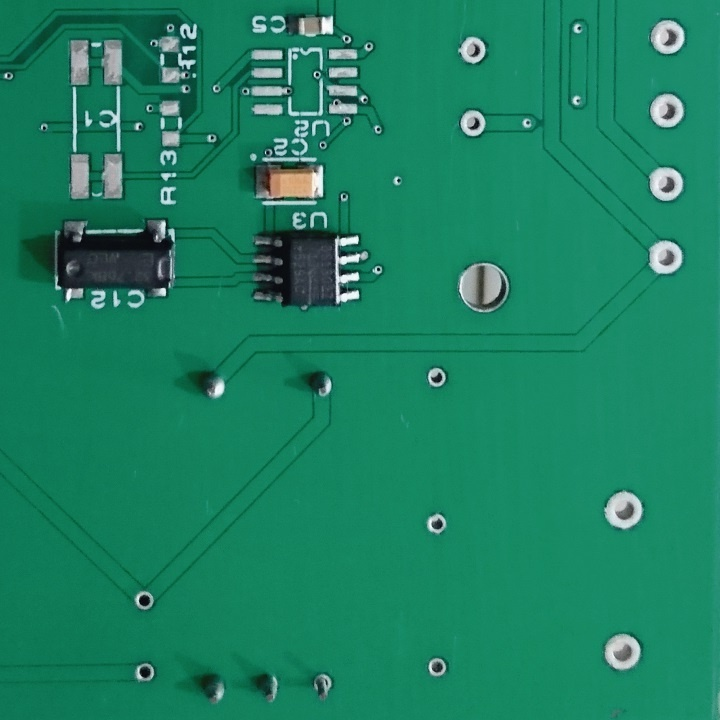F: (601, 487, 650, 535), (601, 629, 645, 675), (645, 17, 690, 58), (644, 236, 685, 280), (646, 163, 687, 206), (647, 90, 689, 131), (456, 29, 490, 66), (456, 108, 488, 138), (310, 670, 336, 702), (424, 361, 450, 391), (131, 658, 156, 686), (423, 510, 448, 537), (131, 588, 156, 615), (426, 656, 451, 680)
